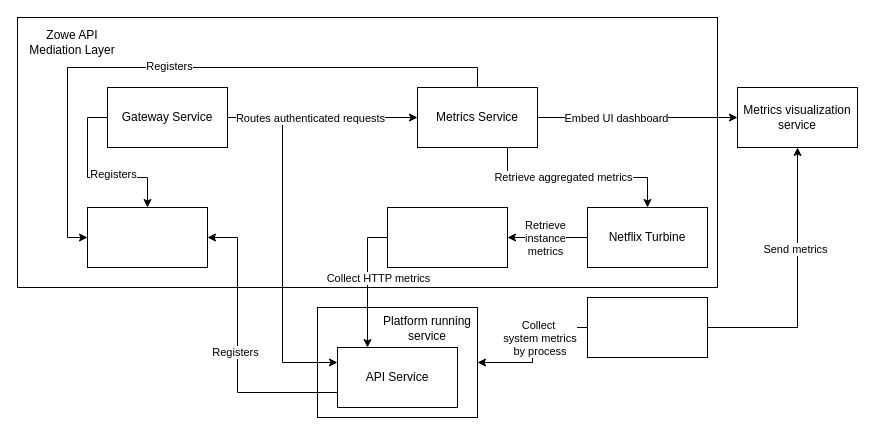
Image size: 875x435. Some labels were removed from this diagram. The shapes that lost their labels are listed below. From the top down, each one's centre as x and y in pixels, then its label:
At [147,237]: "Discovery Service".
At [447,237]: "Netflix Hystrix".
At [647,327]: "System metrics collection service".
